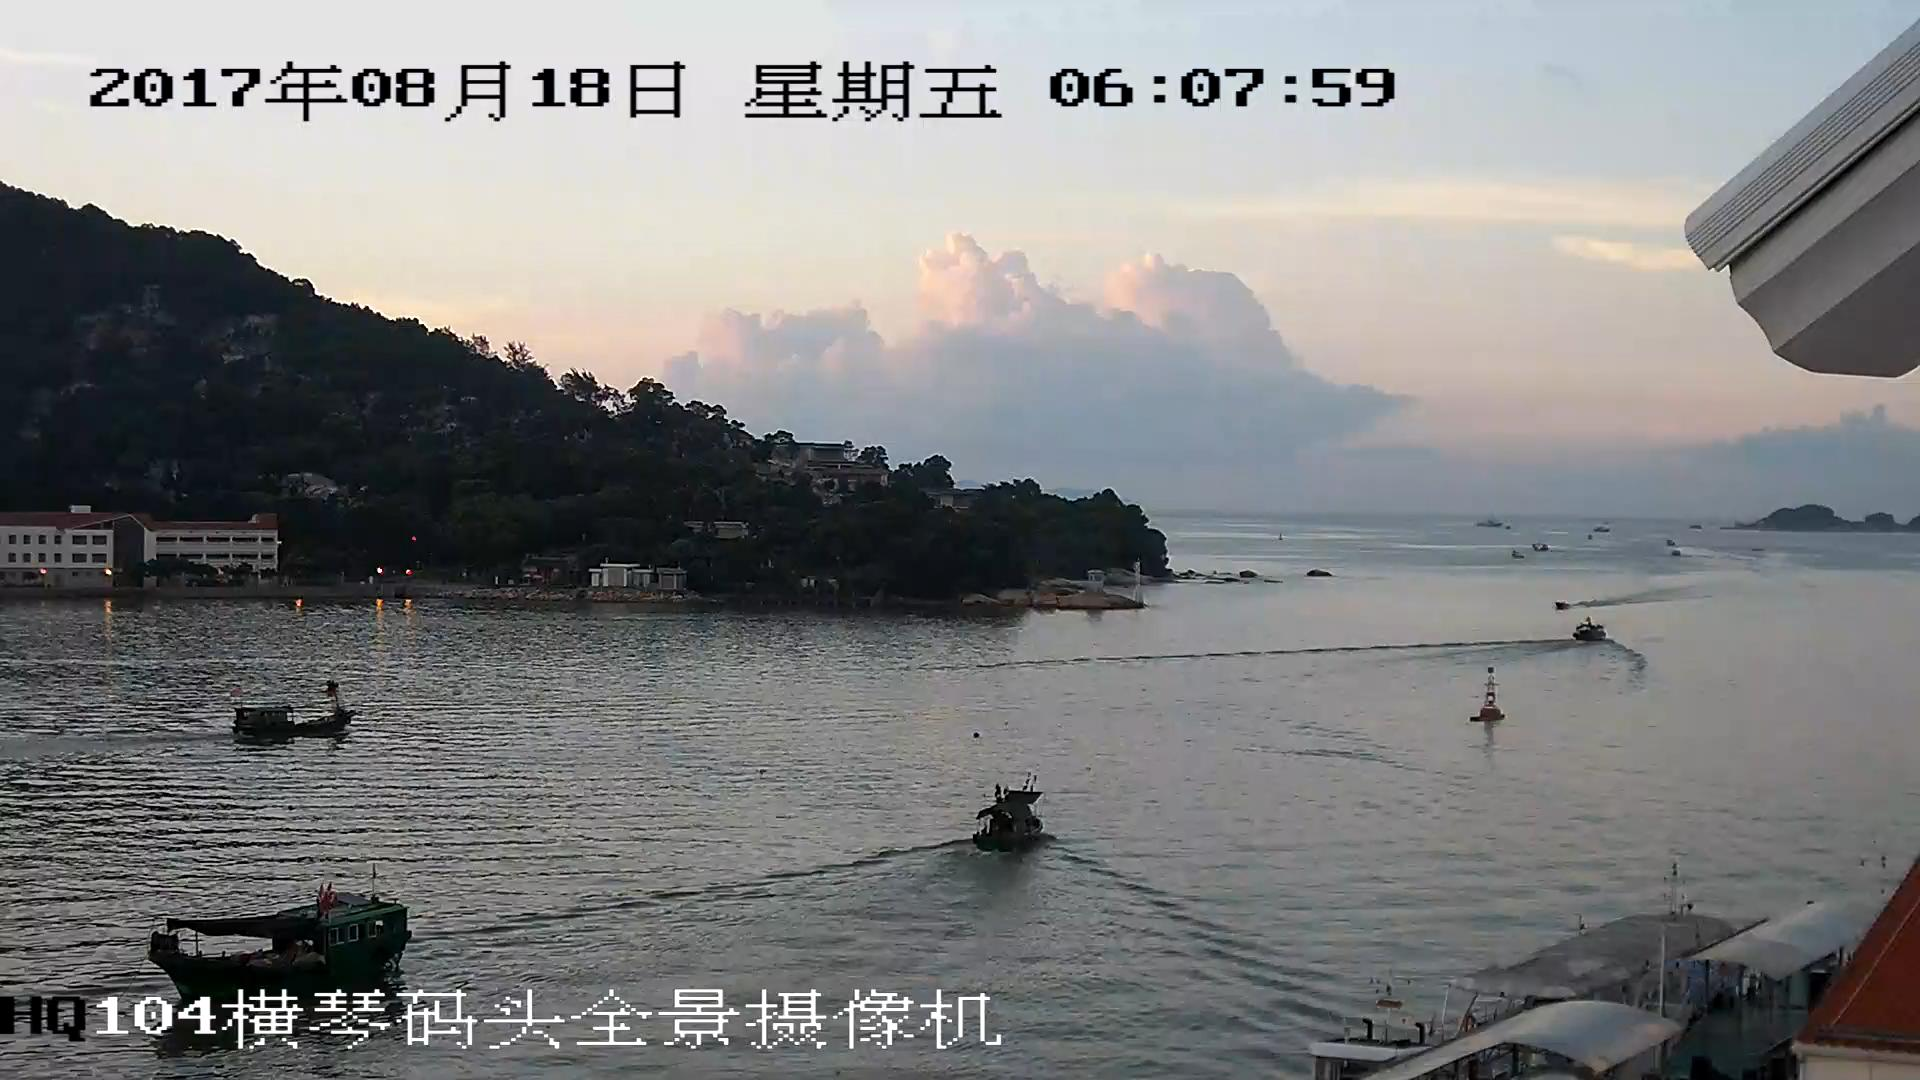fishing boat: (152, 902, 405, 994), (970, 783, 1043, 851), (238, 695, 354, 736)
